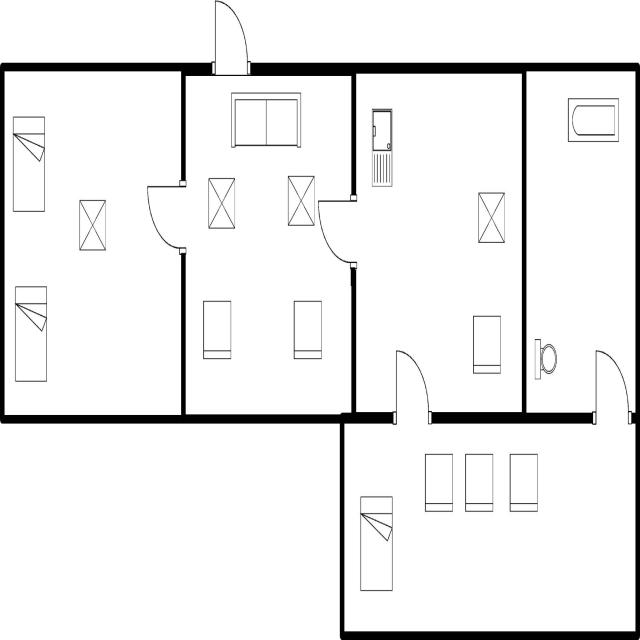bed: (355, 489, 397, 600), (12, 277, 51, 389), (9, 110, 48, 217)
coffee_table: (205, 170, 240, 237), (474, 186, 508, 249), (76, 194, 109, 257), (285, 171, 318, 233)
large_sink: (530, 332, 558, 388)
large_sofa: (228, 86, 303, 156)
sink: (366, 103, 396, 197)
small_sofa: (468, 309, 504, 383), (461, 446, 496, 518), (507, 448, 542, 518), (290, 294, 324, 366), (422, 448, 455, 520), (200, 296, 234, 365)
tub: (563, 92, 622, 150)
